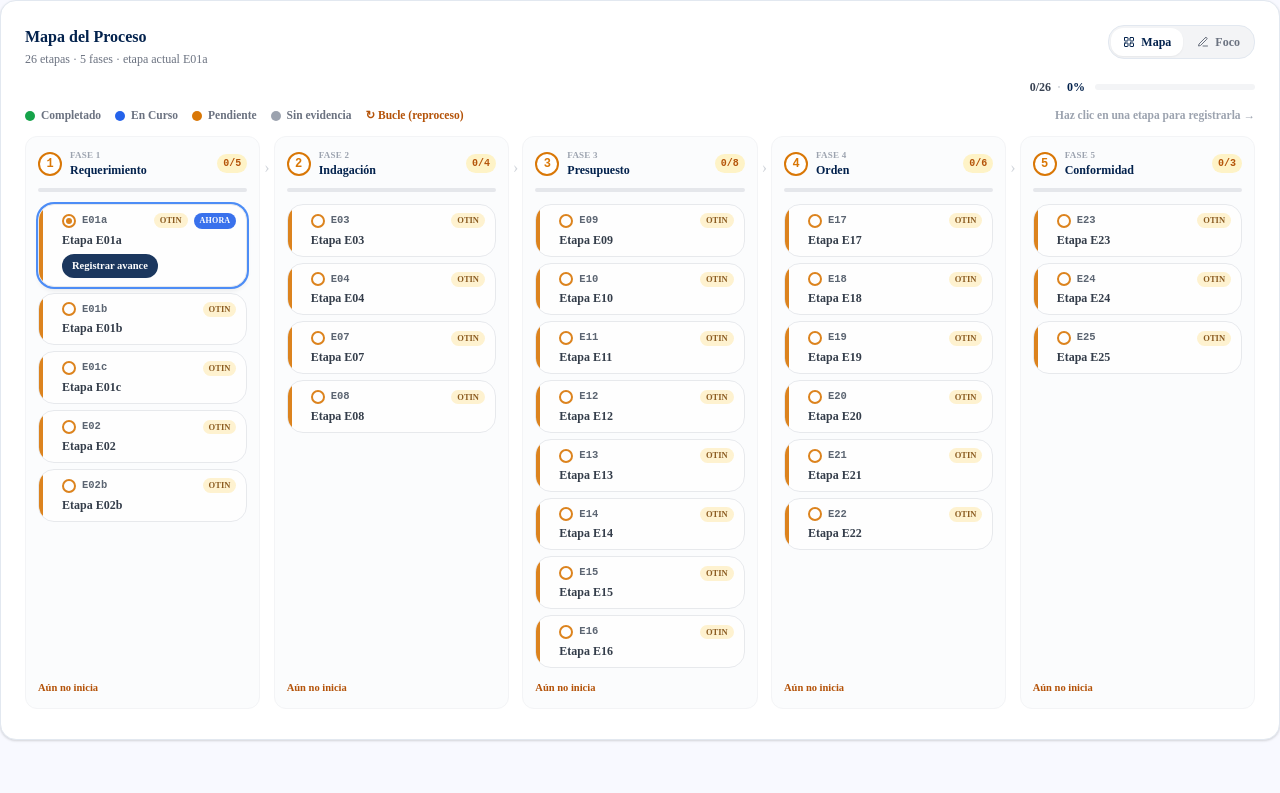
Test: LineaTiempo › toggle 'Foco' renders FocoEtapa with the 5 phases in the nav
Click the tab "Foco". click: click(1219, 42)
box: [1185,28,1252,56]
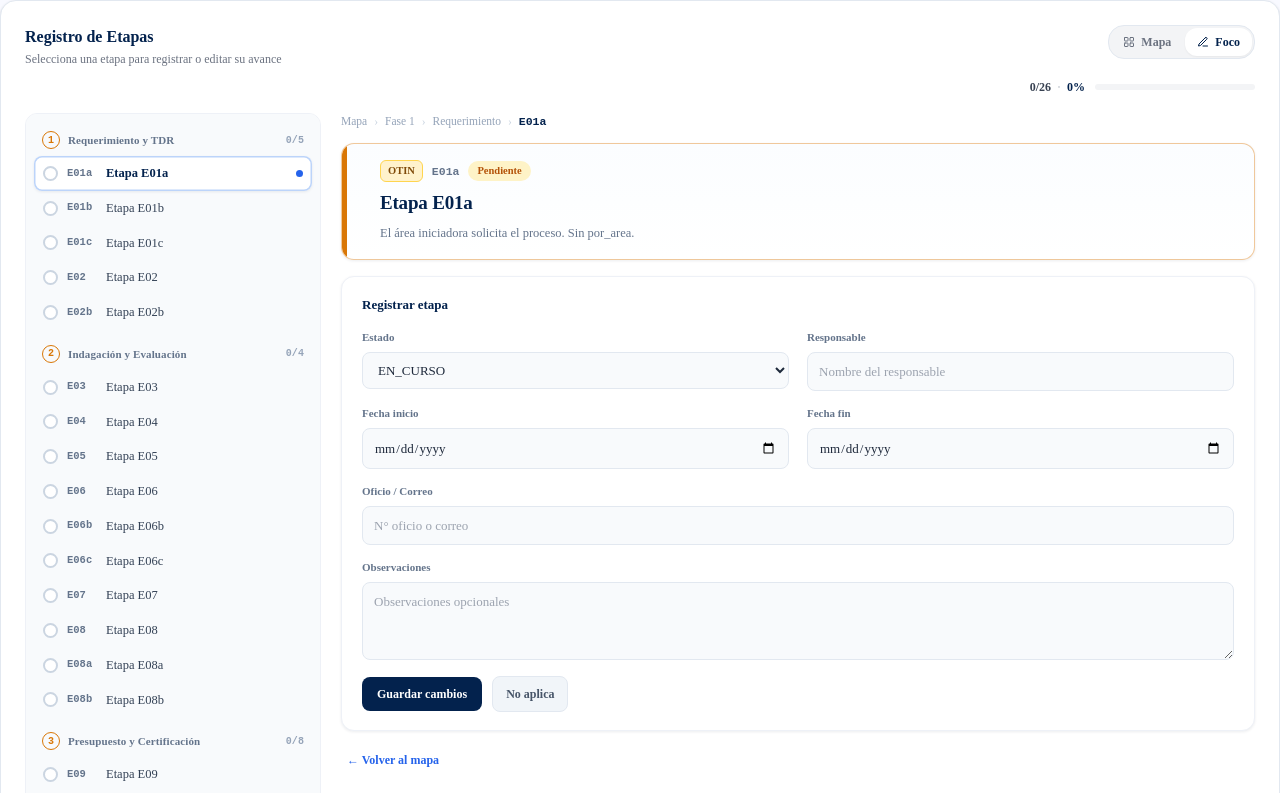
Check: the text "Requerimiento y TDR" is shown, box [68,132,174,148]
Check: the heading "Registro de Etapas" is shown, box [25,28,154,45]
